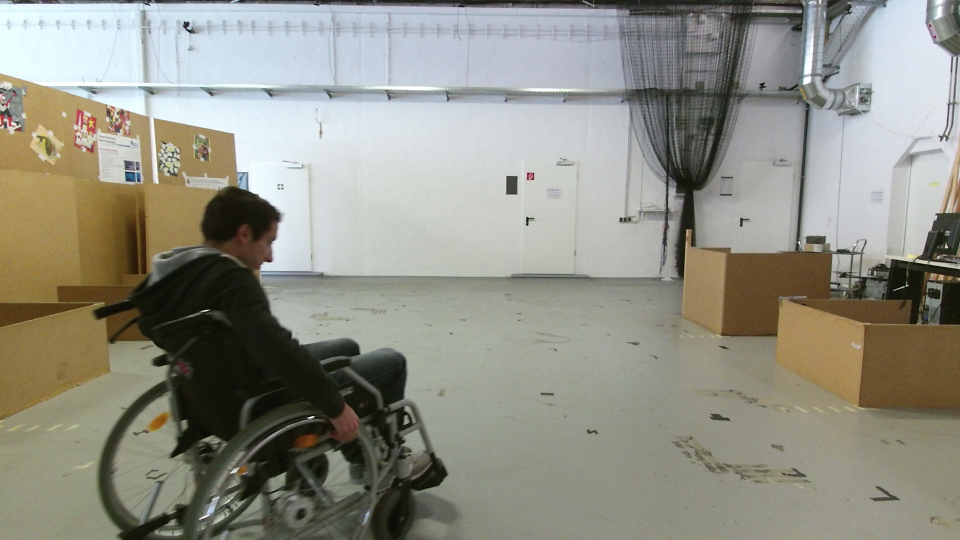wheelchair: (91, 181, 443, 540)
